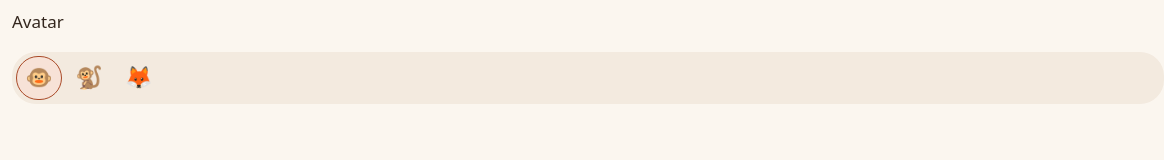
Test: AvatarPicker › marks only the chosen emoji as checked
Click the radio button labelled "🦊". click: (139, 78)
box: left=116, top=56, right=162, bottom=100
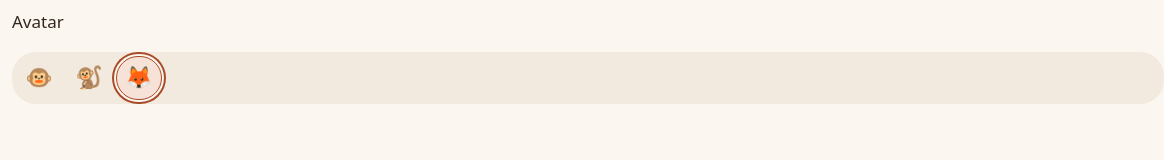
Now the radio button labelled "🦊" is checked, box left=116, top=56, right=162, bottom=100
Now the radio button labelled "🐵" is not checked, box left=16, top=56, right=62, bottom=100
